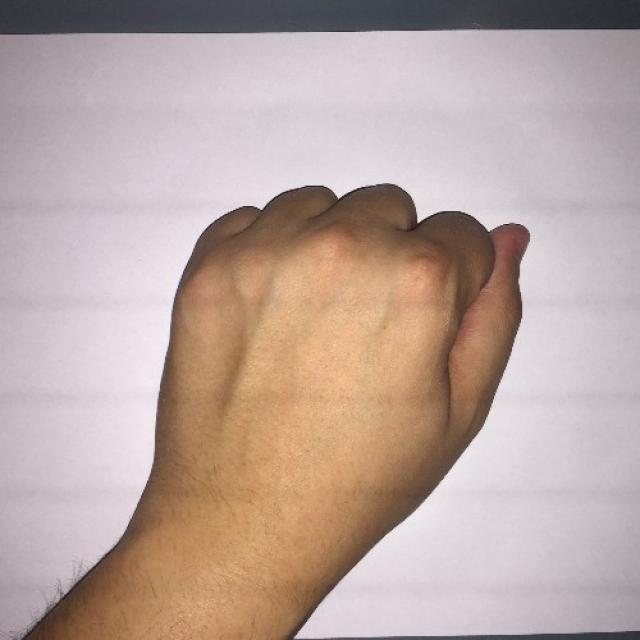rock: (158, 182, 528, 488)
